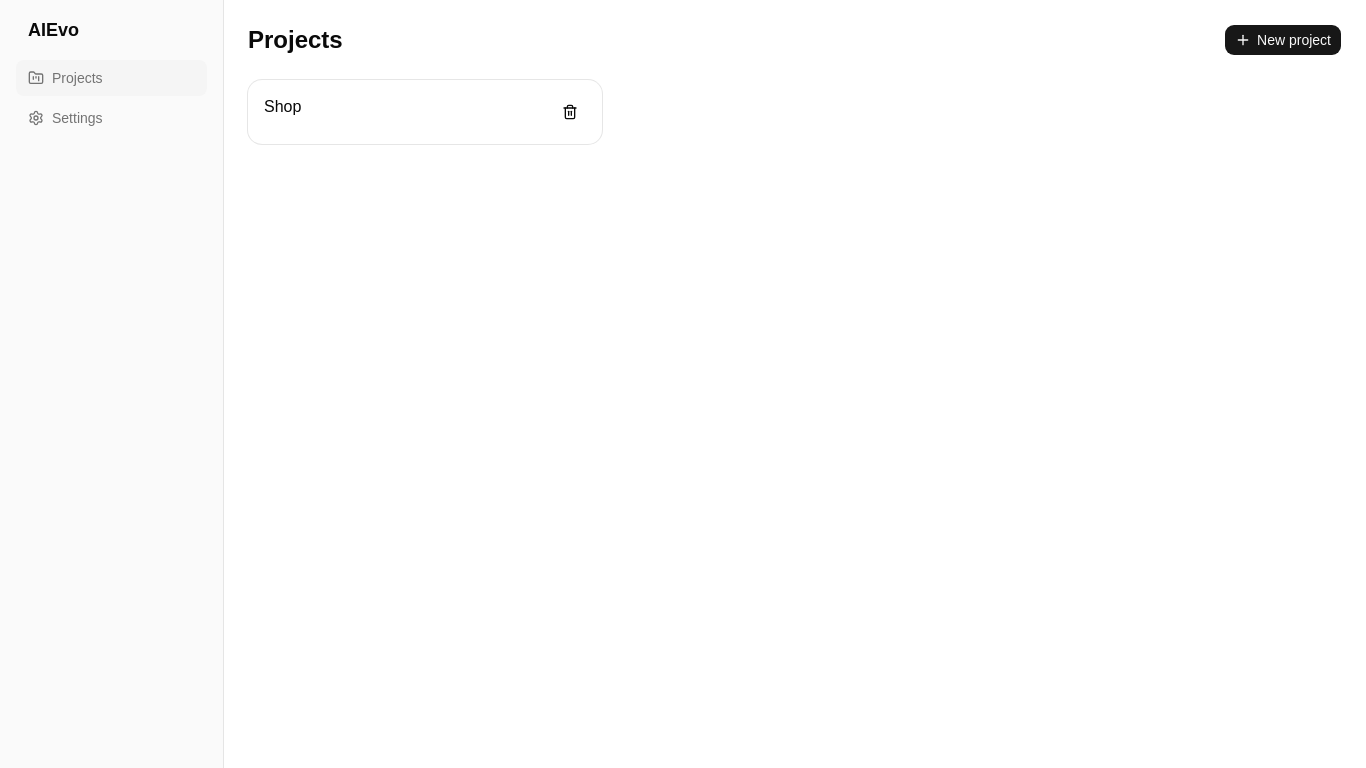
Test: ProjectsPage › deletes a project only after confirmation
Click the button named "Delete Shop" at (570,112), box [554, 96, 586, 128]
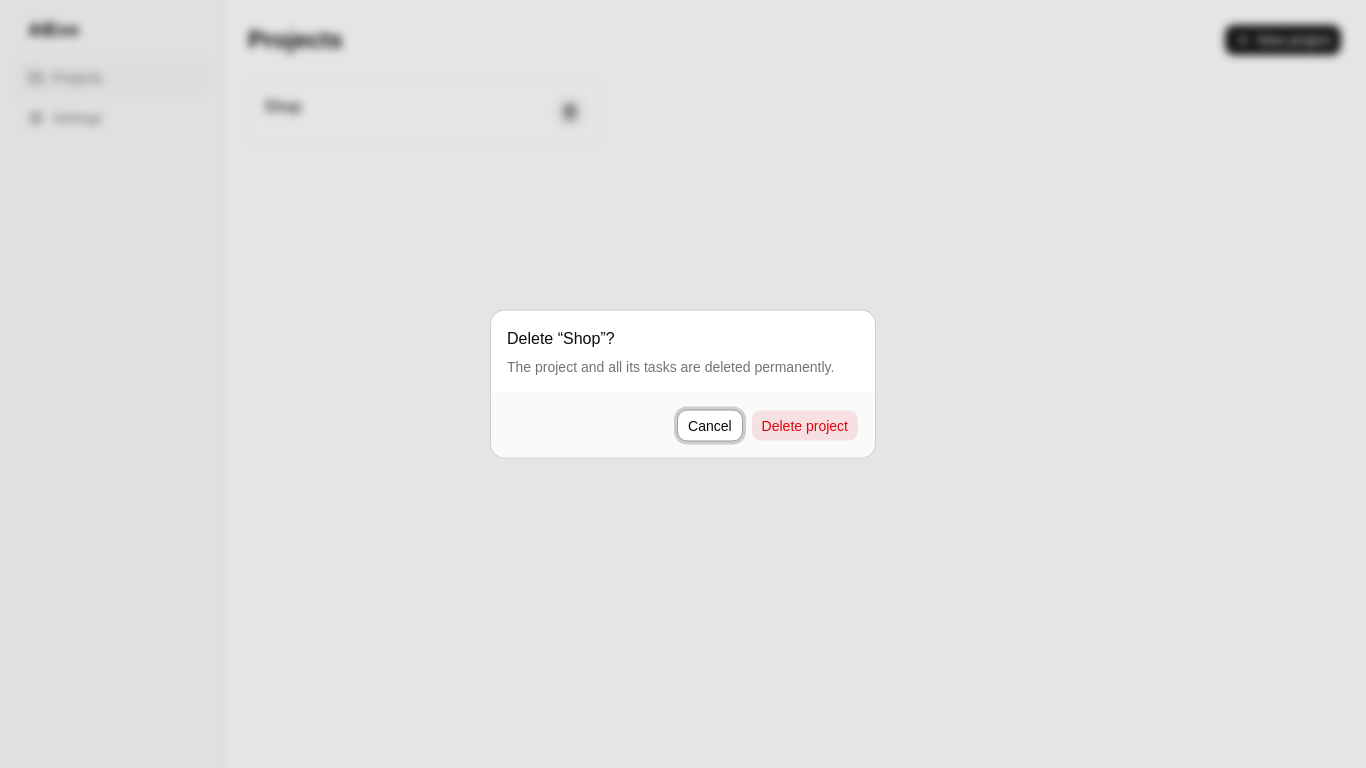
Click the button "Delete project" at (805,426), box [751, 410, 859, 442]
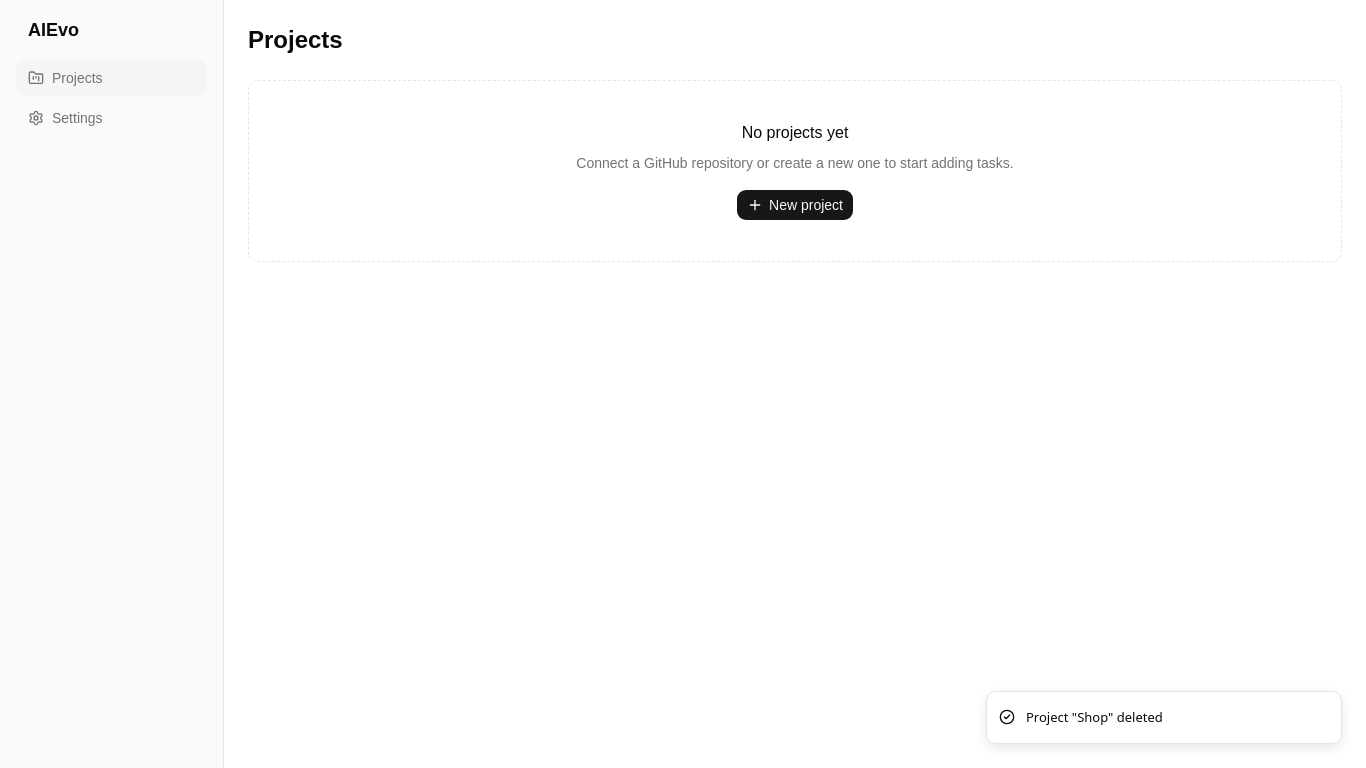
Check: the text "No projects yet" is shown, box [742, 121, 848, 145]
